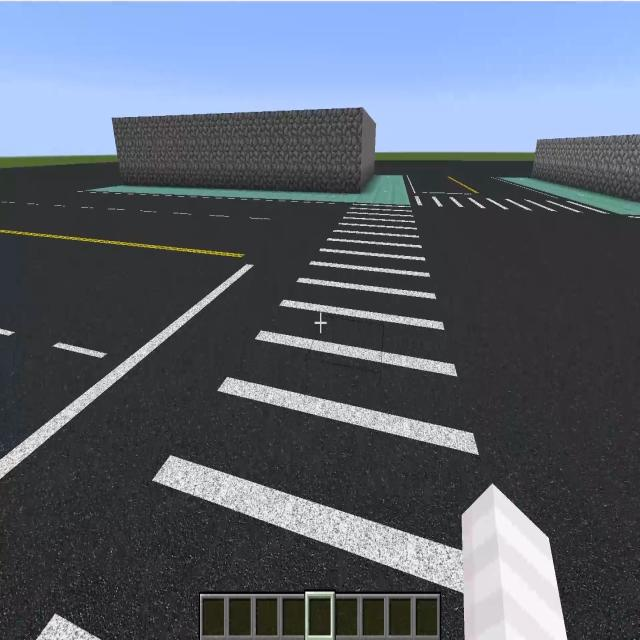crosswalk: (44, 204, 490, 639), (412, 190, 605, 213)
road: (3, 164, 330, 637), (427, 213, 635, 633), (376, 161, 533, 189)
sidewalk: (89, 175, 412, 206), (496, 178, 640, 215)
